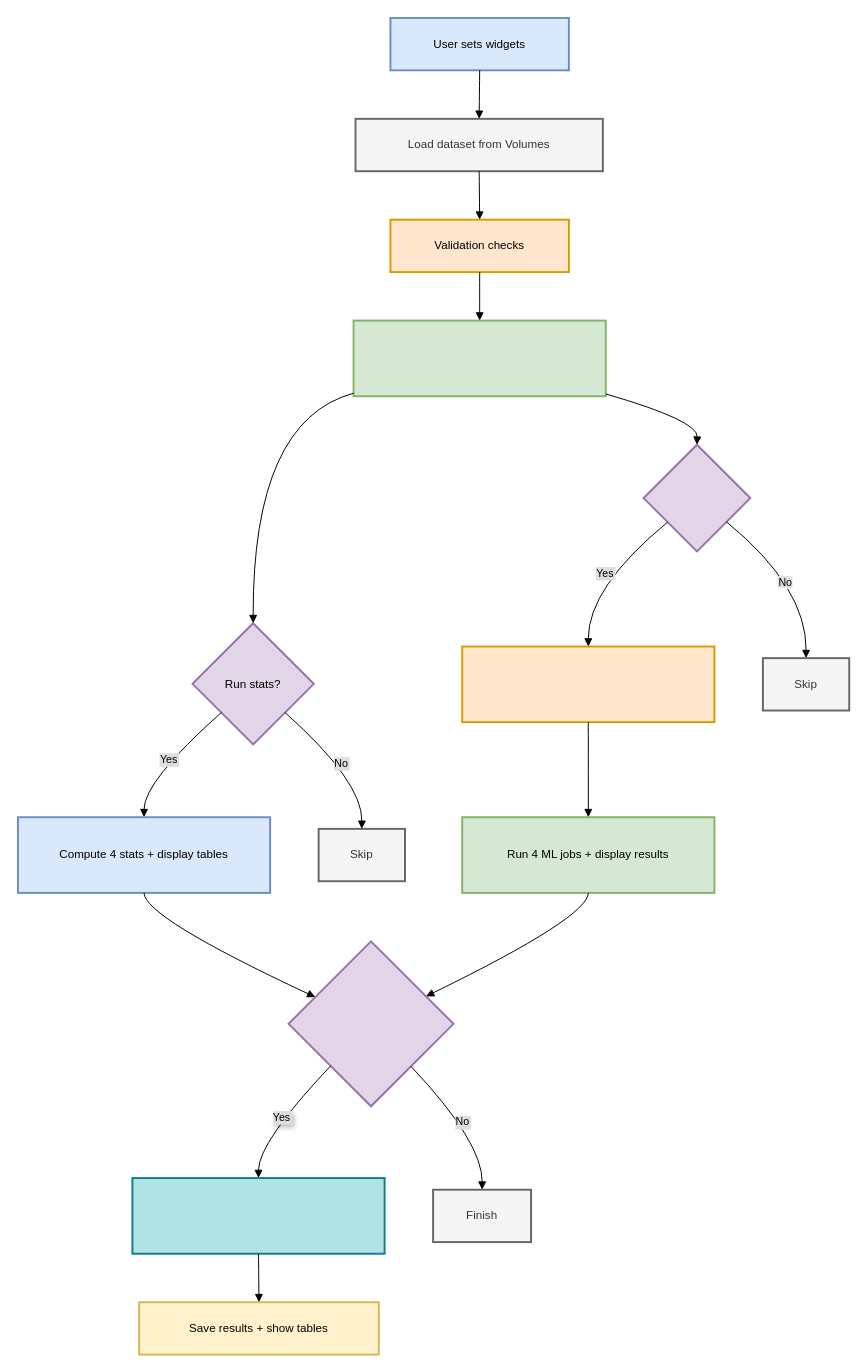
The diagram is 866 pixels wide and 1372 high, and some of its shapes have lost their labels. The shapes that lost their labels are listed below. From the top down, each one's centre as x and y in pixels, then its label:
the point at 479,358: Clean column names + detect numeric cols
the point at 696,497: Run ML?
the point at 588,684: Prepare data sample + features
the point at 370,1023: Run benchmark?
the point at 258,1215: Benchmark p=1/2/4/8 + speedup/eff
